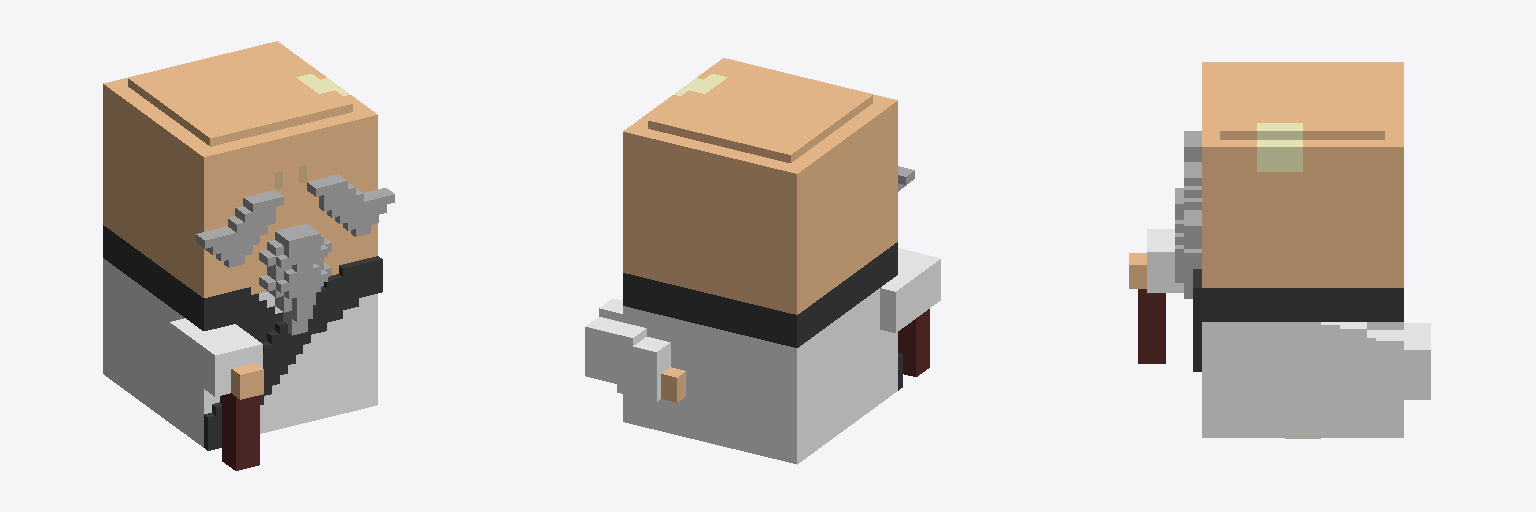
3 views of the same model, side by side, from view 1: azimuth 30°, elevation 25°; view 2: azimuth 150°, elevation 25°; view 3: azimuth 270°, elevation 25° (orthographic).
Visible parts, largest first — view 1: Old; view 2: Old; view 3: Old.
Boxes of the visible parts, <box> form: Old: <box>103,41,394,470</box>; Old: <box>585,58,940,464</box>; Old: <box>1129,62,1430,438</box>.
Size of the model in its own units: 27 by 38 by 33.
Materials: 1 (1 with a texture image).